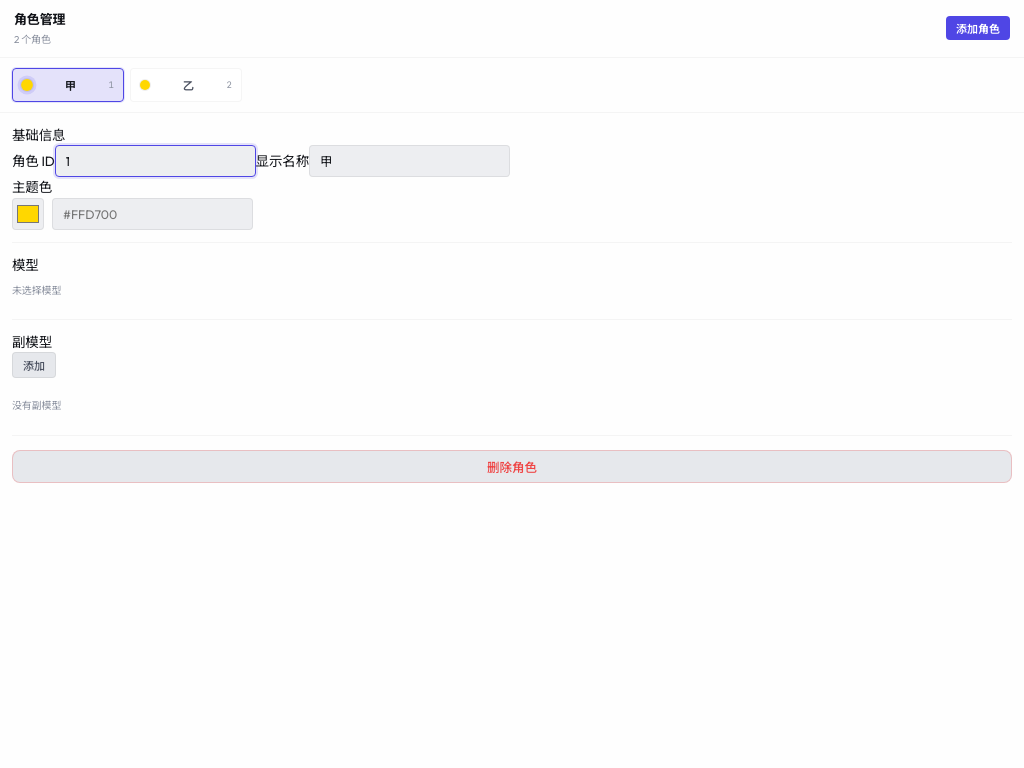
it: CharacterDirectoryPanel character id input › keeps ids unique when the typed id collides with another character
Replace the text in the field with test id "character-id-input" with "2": (155, 161) [55,145,256,177]
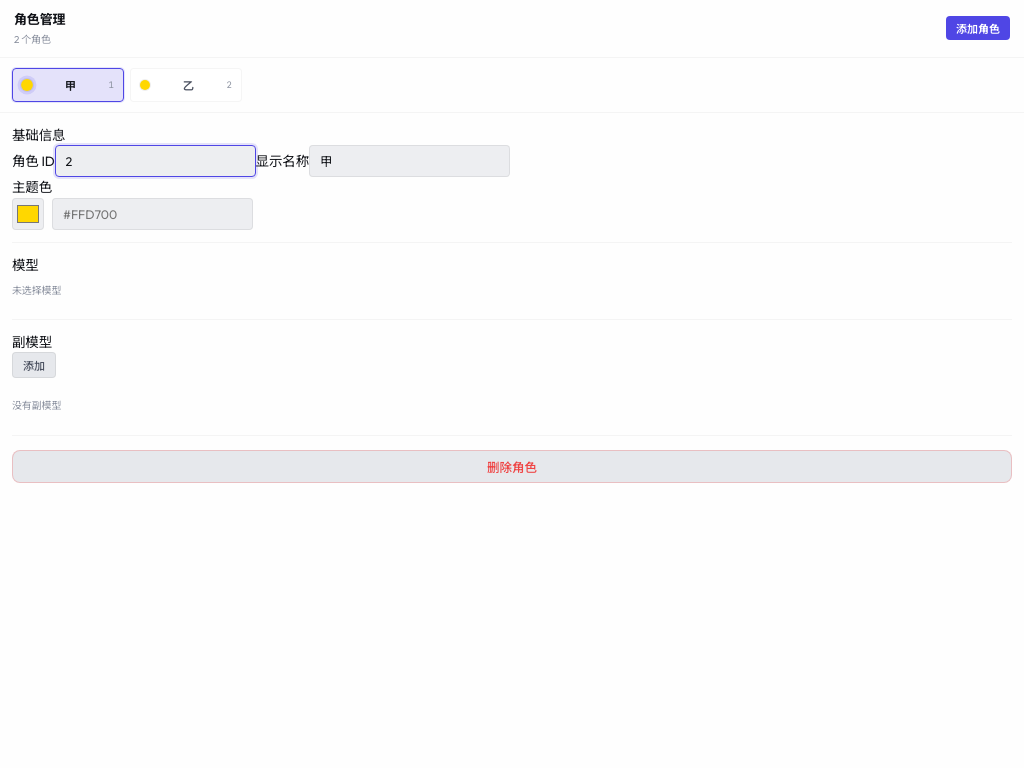
# The reason is reported once the draft settles, and the field falls back.
Leave the field with test id "character-id-input", box [55,145,256,177]
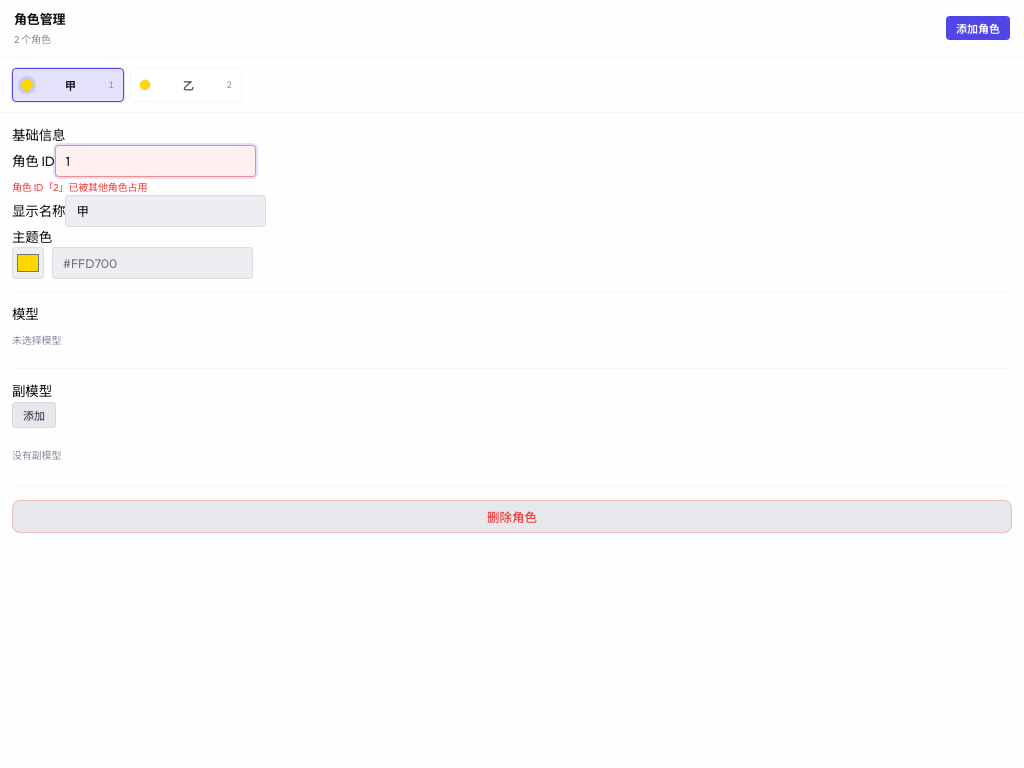
Result: the message shows "已被其他角色占用" at [12,181,147,194]
Result: the field with test id "character-id-input" holds "1" at [55,145,256,177]
